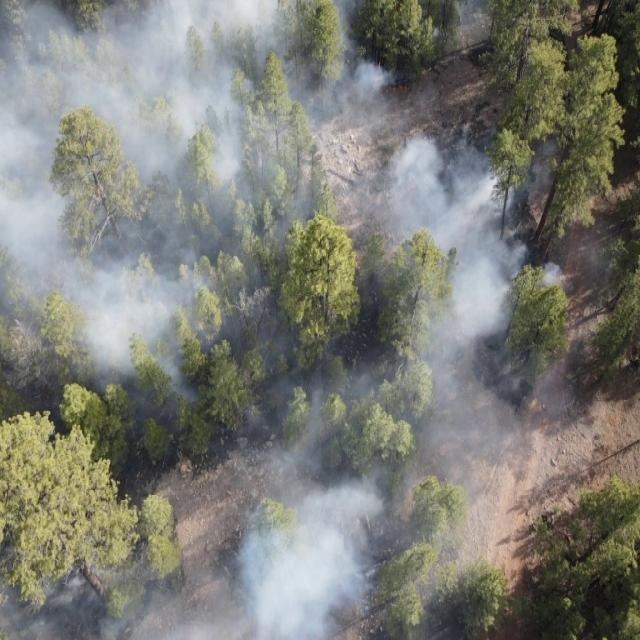smoke: (0, 0, 560, 421), (0, 525, 422, 640), (192, 420, 534, 524), (559, 207, 640, 305)
